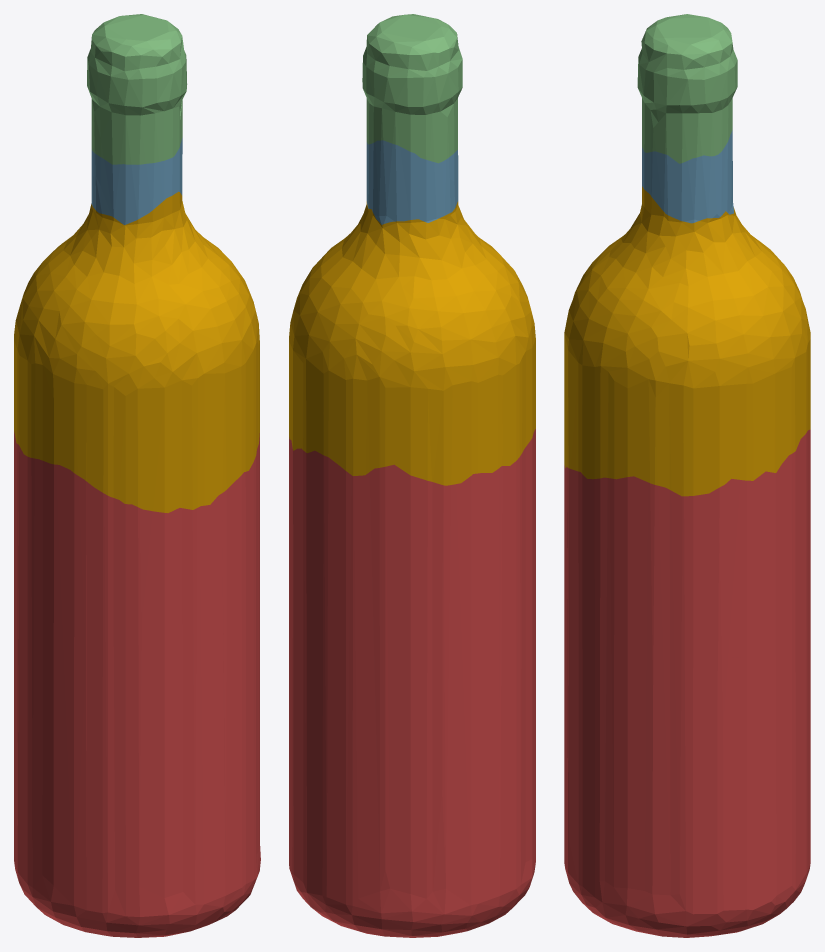
Rendered from fractured_65_4pcs.glb.
The picture shows the model from 3 angles, left to right: view 1: azimuth 30°, elevation 25°; view 2: azimuth 150°, elevation 25°; view 3: azimuth 270°, elevation 25°; orthographic projection.
Visible parts, largest first — view 1: piece_1.obj, piece_0.obj, piece_3.obj, piece_2.obj; view 2: piece_1.obj, piece_0.obj, piece_3.obj, piece_2.obj; view 3: piece_1.obj, piece_0.obj, piece_3.obj, piece_2.obj.
Part boxes in pixels (x1,y1,x2,y2): piece_1.obj: (14, 431, 260, 937); piece_0.obj: (14, 191, 259, 512); piece_3.obj: (87, 14, 187, 164); piece_2.obj: (91, 138, 182, 224); piece_1.obj: (289, 429, 535, 937); piece_0.obj: (289, 201, 535, 485); piece_3.obj: (362, 14, 462, 163); piece_2.obj: (366, 140, 458, 224); piece_1.obj: (564, 429, 810, 937); piece_0.obj: (564, 186, 810, 496); piece_3.obj: (637, 14, 737, 163); piece_2.obj: (642, 130, 733, 223).
Size of the model in its own units: 0.2559 by 1 by 0.2559.
